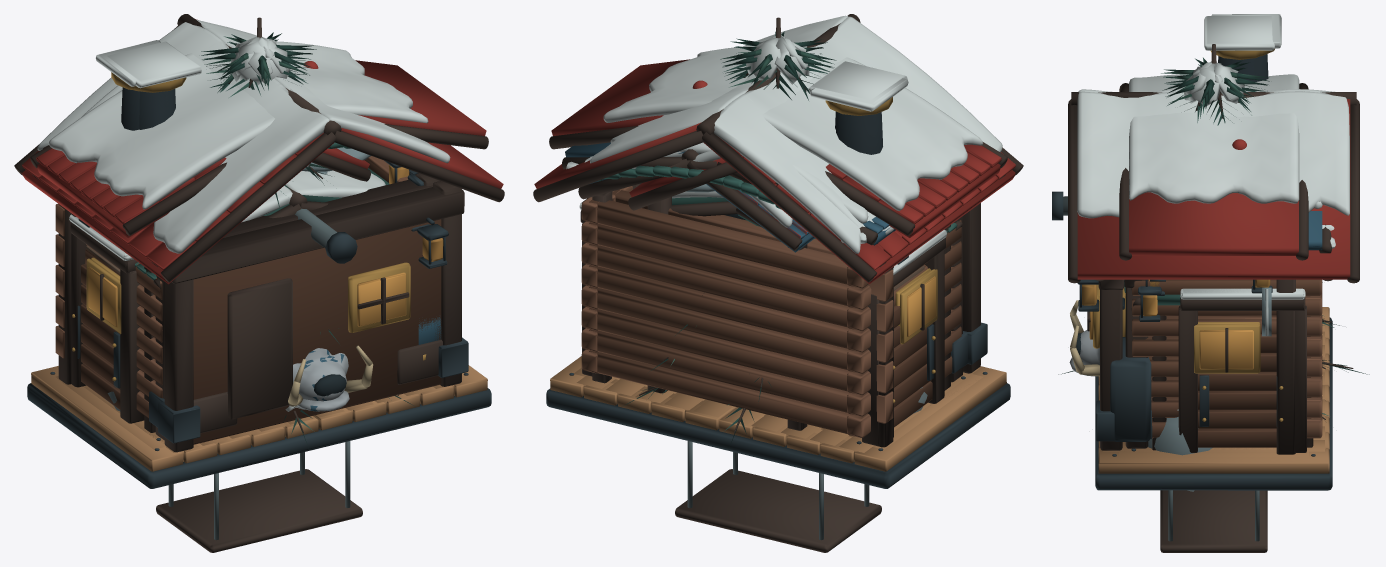
The model's file is frostline-art.glb.
The picture shows the model from 3 angles, left to right: view 1: azimuth 30°, elevation 25°; view 2: azimuth 150°, elevation 25°; view 3: azimuth 270°, elevation 25°; orthographic projection. The views are drawn at different scales.
Visible parts, largest first — view 1: Cone.075, Cone.048, Cone.070, Cone.051, Cone.017, Cone.052, Cone.031, Cone.054, Cone.019, Cone.045, Cone.002, Cone.055 (+1 smaller); view 2: Cone.075, Cone.048, Cone.070, Cone.017, Cone.051, Cone.031, Cone.054, Cone.033, Cone.052, Cone.011, Cone.019, Cone.022 (+1 smaller); view 3: Cone.048, Cone.070, Cone.075, Cone.017, Cone.051, Cone.019, Cone.054, Cone.052, Cone.002, Cone.031, Sphere, Cone.022 (+3 smaller).
Boxes of the visible parts, <box> form: Cone.075: <box>57,159,468,461</box>; Cone.048: <box>27,41,491,488</box>; Cone.070: <box>14,14,504,284</box>; Cone.051: <box>156,441,362,552</box>; Cone.017: <box>48,142,463,449</box>; Cone.052: <box>91,156,442,440</box>; Cone.031: <box>55,40,423,440</box>; Cone.054: <box>201,17,413,444</box>; Cone.019: <box>77,41,201,439</box>; Cone.045: <box>135,168,389,289</box>; Cone.002: <box>288,345,373,406</box>; Cone.055: <box>295,208,357,263</box>; Cone.075: <box>576,191,987,461</box>; Cone.048: <box>546,46,1010,488</box>; Cone.070: <box>533,14,1023,284</box>; Cone.017: <box>566,156,983,449</box>; Cone.051: <box>675,441,881,552</box>; Cone.031: <box>581,78,963,447</box>; Cone.054: <box>624,17,836,444</box>; Cone.033: <box>578,149,814,252</box>; Cone.052: <box>612,186,967,438</box>; Cone.011: <box>628,150,901,249</box>; Cone.019: <box>580,61,965,441</box>; Cone.022: <box>562,142,895,245</box>; Cone.048: <box>1095,74,1332,490</box>; Cone.070: <box>1068,89,1359,283</box>; Cone.075: <box>1077,279,1325,451</box>; Cone.017: <box>1119,225,1335,457</box>; Cone.051: <box>1160,490,1267,552</box>; Cone.019: <box>1138,16,1313,452</box>; Cone.054: <box>1058,44,1369,419</box>; Cone.052: <box>1122,279,1276,449</box>; Cone.002: <box>1070,300,1099,376</box>; Cone.031: <box>1124,14,1306,452</box>; Sphere: <box>1148,409,1212,491</box>; Cone.022: <box>1308,201,1331,253</box>.
Bounding box in the file's own units: 250 × 326 × 199.
